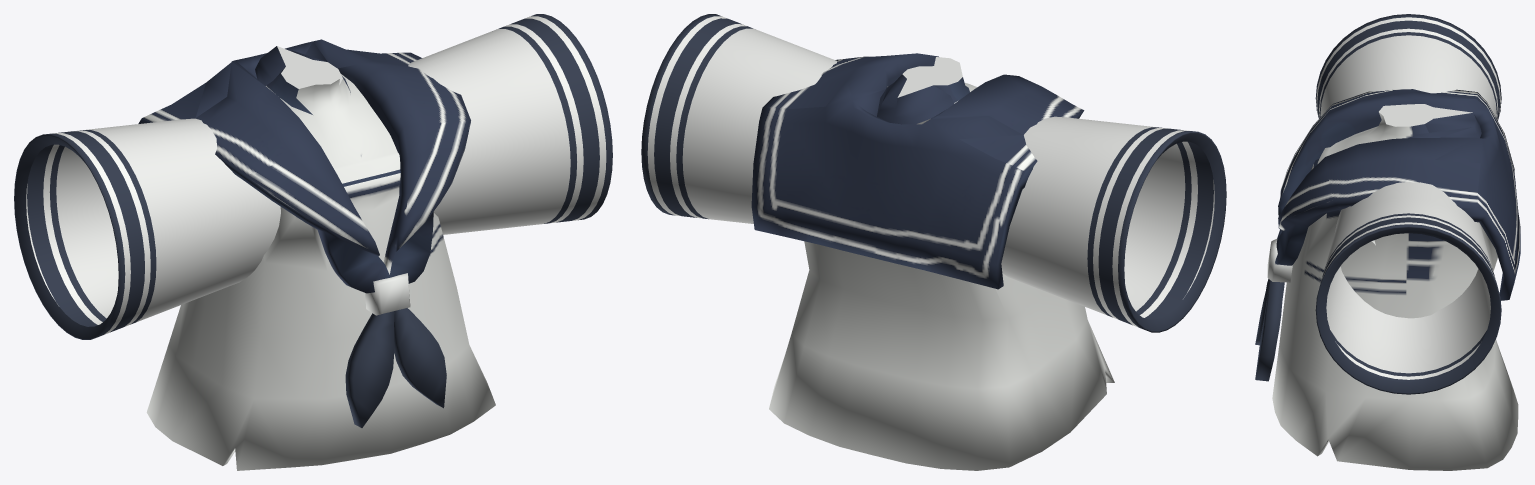
File: sailor-girl-top.glb
The picture shows the model from 3 angles, left to right: view 1: azimuth 30°, elevation 25°; view 2: azimuth 150°, elevation 25°; view 3: azimuth 270°, elevation 25°; orthographic projection. The views are drawn at different scales.
Visible parts, largest first — view 1: Sailor_top; view 2: Sailor_top; view 3: Sailor_top.
Part boxes in pixels (x1,y1,x2,y2): Sailor_top: (14,14,612,470); Sailor_top: (641,14,1226,470); Sailor_top: (1255,14,1520,470).
Size of the model in its own units: 1.62 by 1.09 by 0.8573.
Materials: 4 (1 with a texture image).
